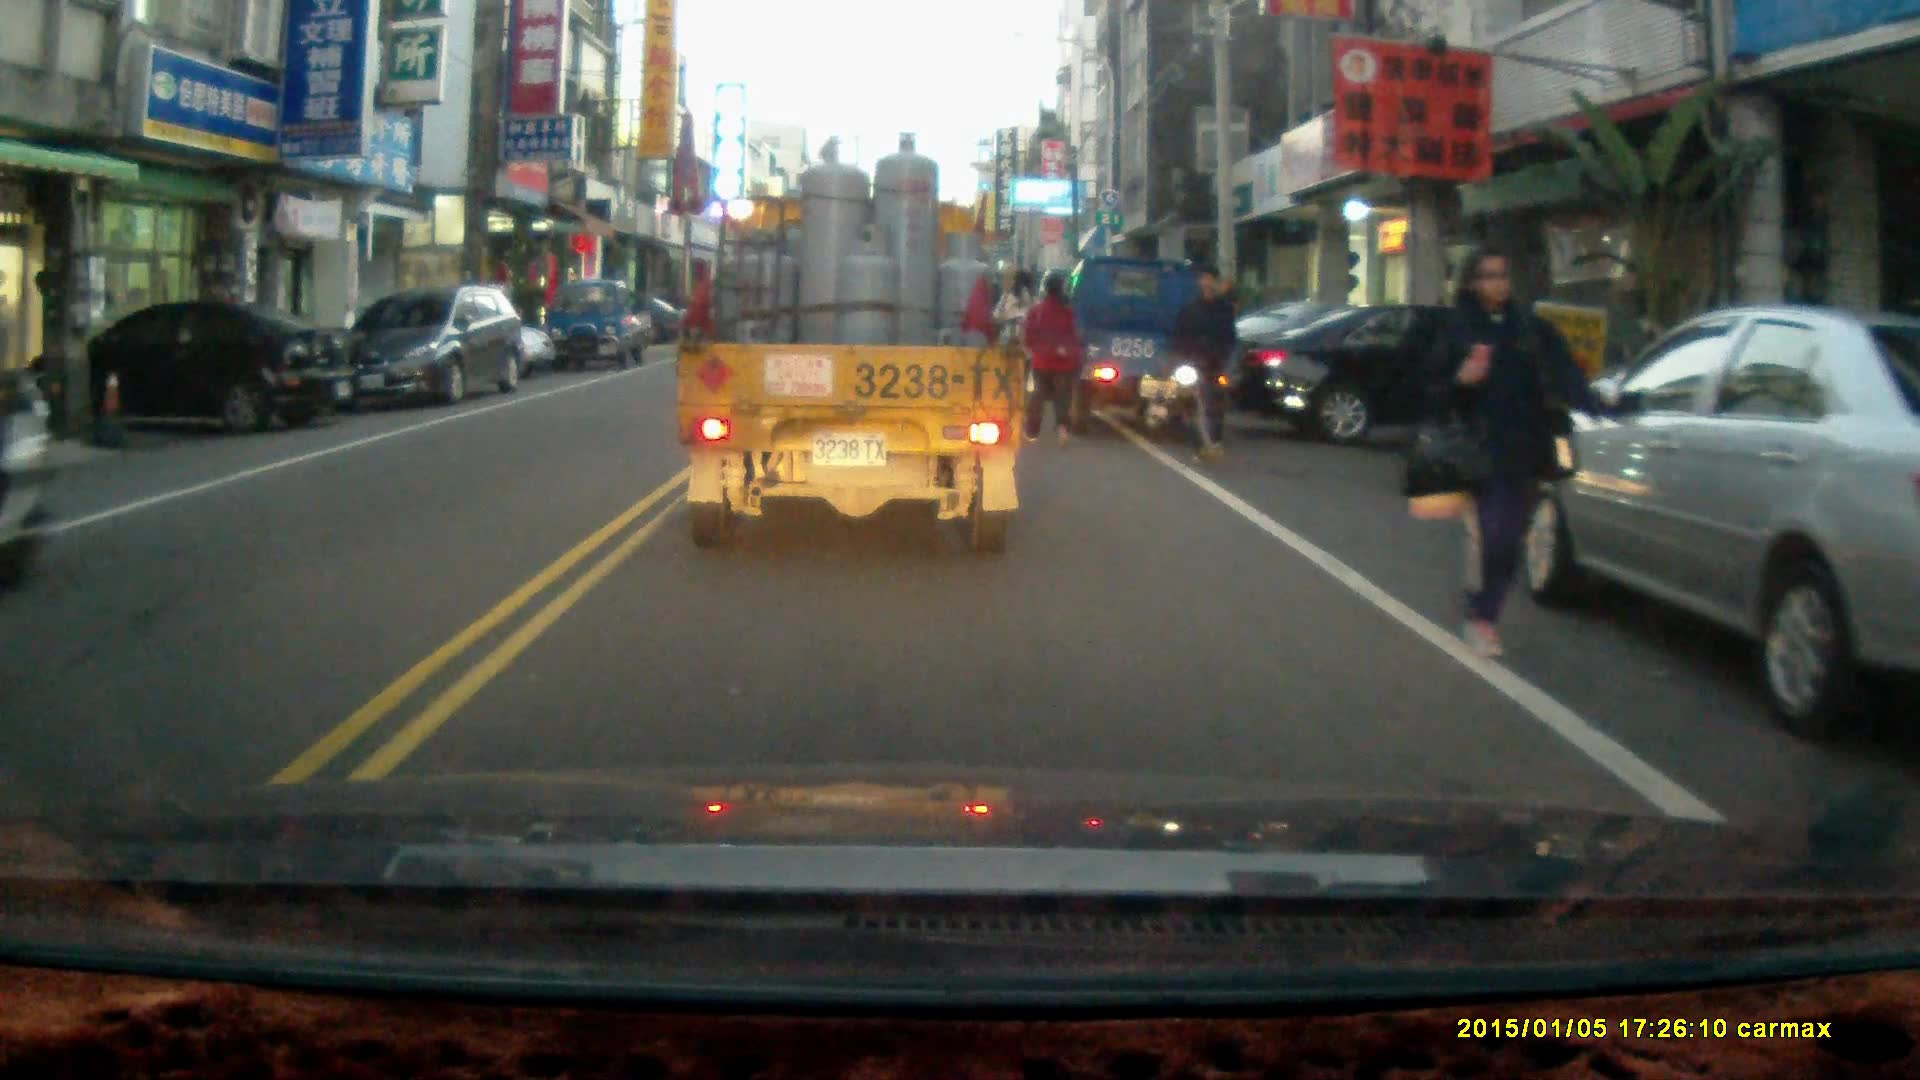pedestrian: (1422, 241, 1615, 663), (1166, 264, 1233, 471), (1020, 271, 1078, 448)
vehicle: (1490, 307, 1920, 734), (676, 130, 1034, 560), (1224, 299, 1562, 468), (6, 301, 356, 441), (1057, 259, 1259, 448), (335, 289, 533, 414), (546, 279, 655, 374)
